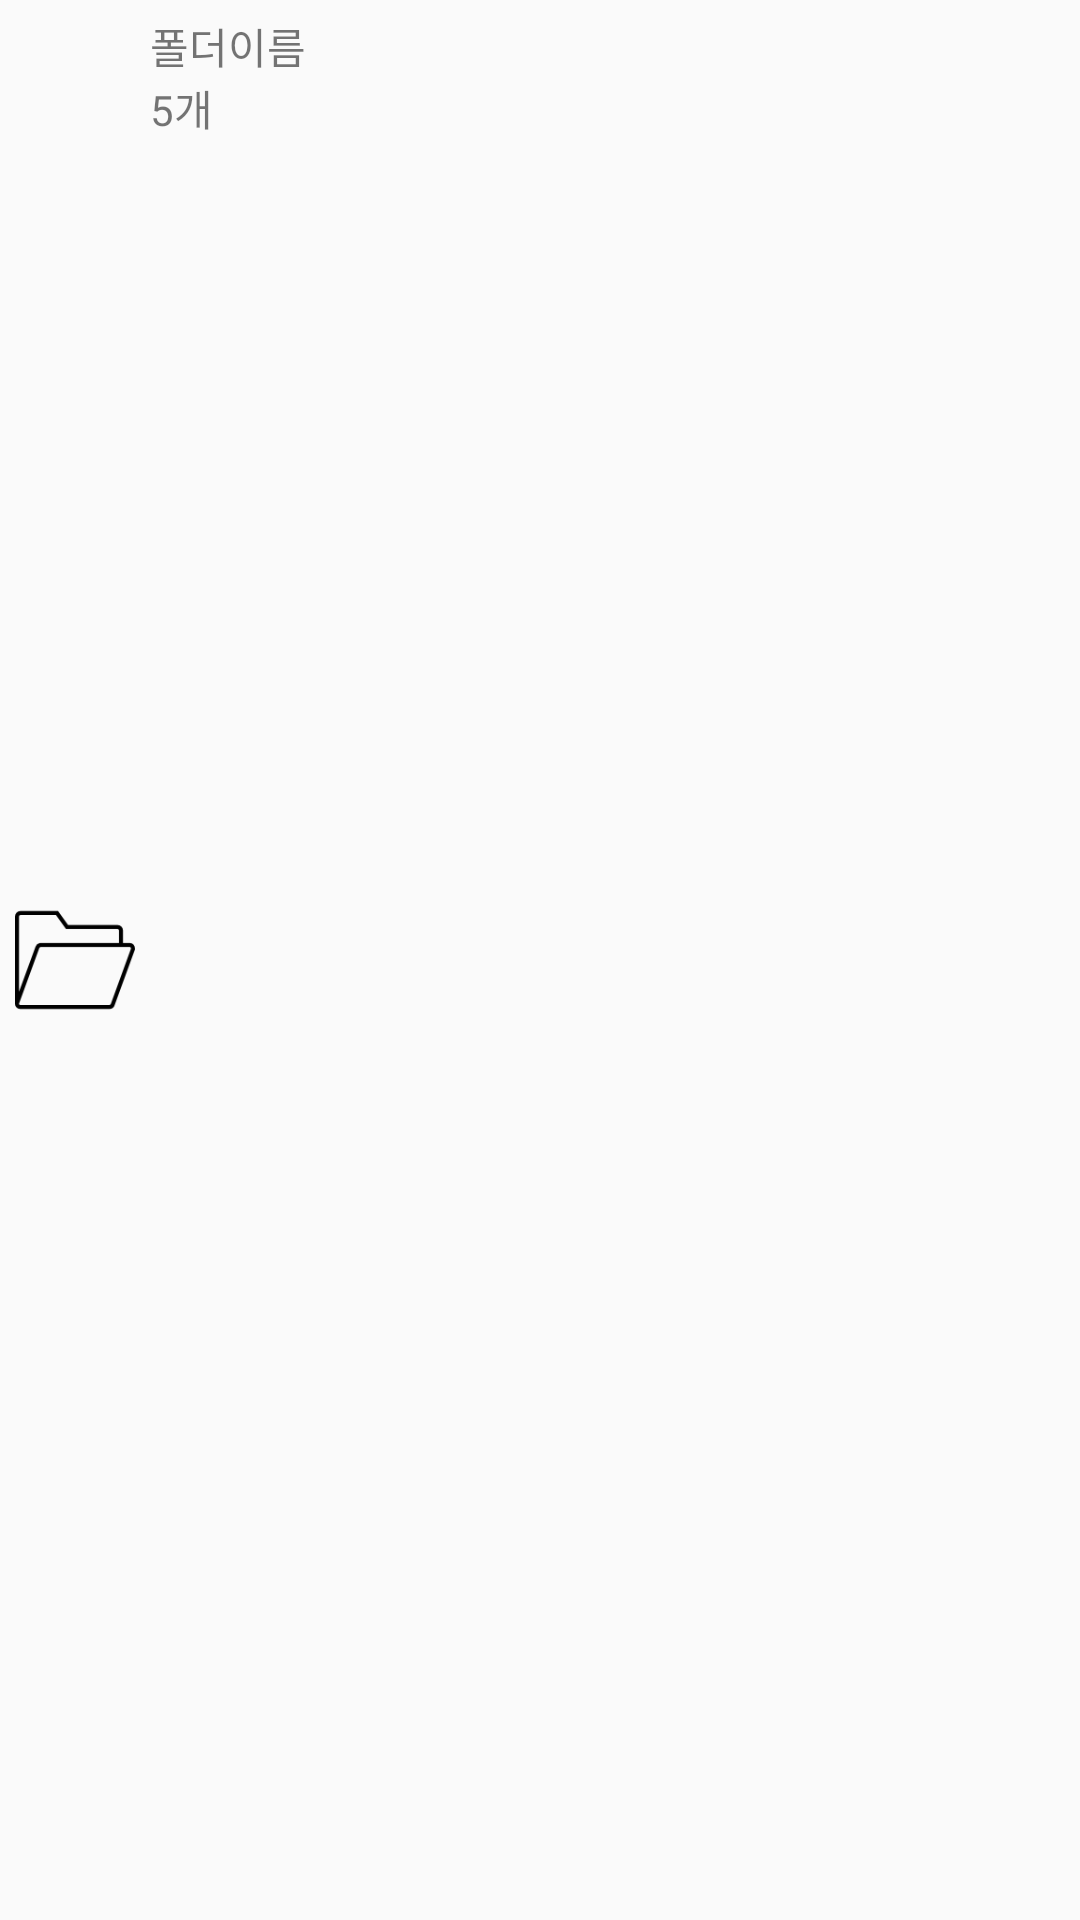

Where to tap for icons on this 1080px×1920px app screen, as point (x, y):
folder empty: point (75, 960)
